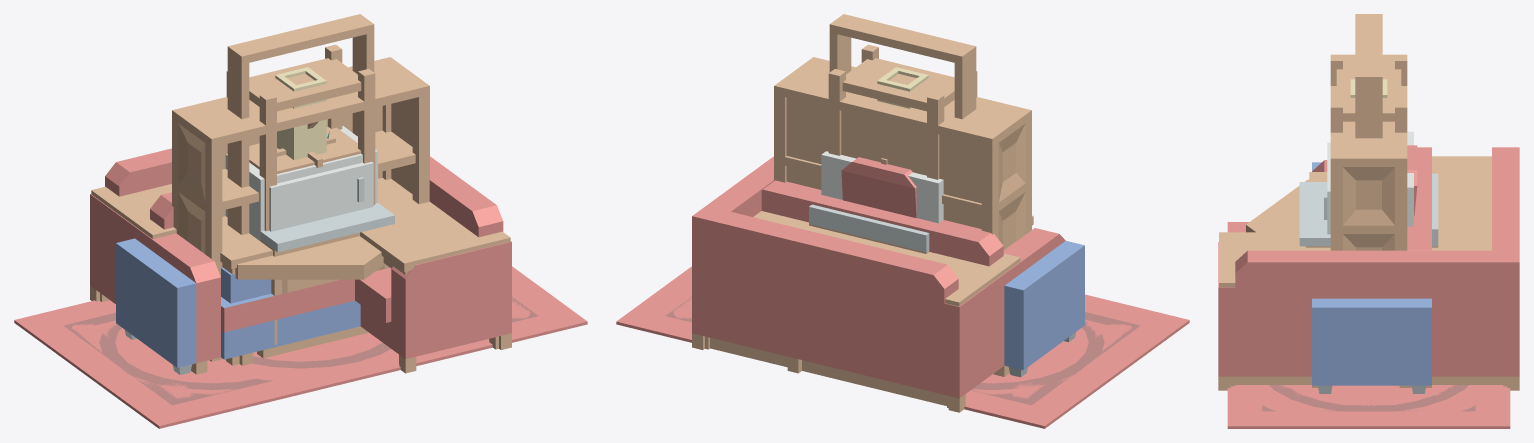
The model's file is office-kit.glb.
3 views of the same model, side by side, from view 1: azimuth 30°, elevation 25°; view 2: azimuth 150°, elevation 25°; view 3: azimuth 270°, elevation 25° (orthographic). The views are drawn at different scales.
Parts seen in each view (by area): view 1: loungeSofaCorner(Clone), bookcaseClosedWide(Clone), rugRectangle(Clone), loungeDesignSofa(Clone), bookcaseOpen(Clone), Mesh deskCorner, doorwayOpen(Clone), loungeSofa(Clone), rugRounded(Clone), rugRound(Clone), doorFridge, tableRound(Clone) (+6 smaller); view 2: loungeSofaCorner(Clone), bookcaseClosedWide(Clone), rugRectangle(Clone), loungeDesignSofa(Clone), loungeSofa(Clone), Mesh deskCorner, bookcaseOpen(Clone), doorwayOpen(Clone), rugRounded(Clone), chair, Mesh kitchenCabinet, Mesh kitchenFridgeSmall (+2 smaller); view 3: loungeSofaCorner(Clone), loungeDesignSofa(Clone), bookcaseClosedWide(Clone), Mesh deskCorner, rugRectangle(Clone), rugRounded(Clone), doorwayOpen(Clone), bookcaseOpen(Clone), loungeSofa(Clone), Mesh kitchenCabinet, tableRound(Clone), loungeChair(Clone) (+3 smaller).
Boxes of the visible parts, bbox=[...] form: loungeSofaCorner(Clone): bbox=[90, 148, 511, 373]; bookcaseClosedWide(Clone): bbox=[172, 57, 429, 361]; rugRectangle(Clone): bbox=[14, 266, 587, 428]; loungeDesignSofa(Clone): bbox=[116, 238, 277, 374]; bookcaseOpen(Clone): bbox=[226, 44, 375, 231]; Mesh deskCorner: bbox=[91, 179, 510, 363]; doorwayOpen(Clone): bbox=[227, 14, 374, 234]; loungeSofa(Clone): bbox=[135, 192, 290, 374]; rugRounded(Clone): bbox=[71, 274, 530, 403]; rugRound(Clone): bbox=[207, 332, 416, 381]; doorFridge: bbox=[269, 162, 373, 231]; tableRound(Clone): bbox=[235, 236, 384, 279]; loungeSofaCorner(Clone): bbox=[692, 156, 1015, 412]; bookcaseClosedWide(Clone): bbox=[774, 57, 1031, 250]; rugRectangle(Clone): bbox=[616, 266, 1189, 428]; loungeDesignSofa(Clone): bbox=[1004, 241, 1084, 377]; loungeSofa(Clone): bbox=[761, 180, 1065, 376]; Mesh deskCorner: bbox=[705, 211, 1020, 407]; bookcaseOpen(Clone): bbox=[828, 44, 977, 179]; doorwayOpen(Clone): bbox=[829, 14, 976, 119]; rugRounded(Clone): bbox=[673, 288, 1133, 403]; chair: bbox=[841, 157, 916, 218]; Mesh kitchenCabinet: bbox=[809, 204, 929, 253]; Mesh kitchenFridgeSmall: bbox=[821, 151, 943, 223]; loungeSofaCorner(Clone): bbox=[1218, 147, 1519, 390]; loungeDesignSofa(Clone): bbox=[1312, 162, 1431, 393]; bookcaseClosedWide(Clone): bbox=[1330, 54, 1407, 250]; Mesh deskCorner: bbox=[1219, 156, 1507, 386]; rugRectangle(Clone): bbox=[1227, 222, 1510, 428]; rugRounded(Clone): bbox=[1236, 385, 1501, 426]; doorwayOpen(Clone): bbox=[1355, 14, 1382, 138]; bookcaseOpen(Clone): bbox=[1330, 55, 1407, 132]; loungeSofa(Clone): bbox=[1312, 147, 1431, 387]; Mesh kitchenCabinet: bbox=[1299, 173, 1438, 247]; tableRound(Clone): bbox=[1246, 179, 1309, 232]; loungeChair(Clone): bbox=[1414, 179, 1431, 218].
Size of the model in its own units: 1.57 by 1.01 by 0.98.
